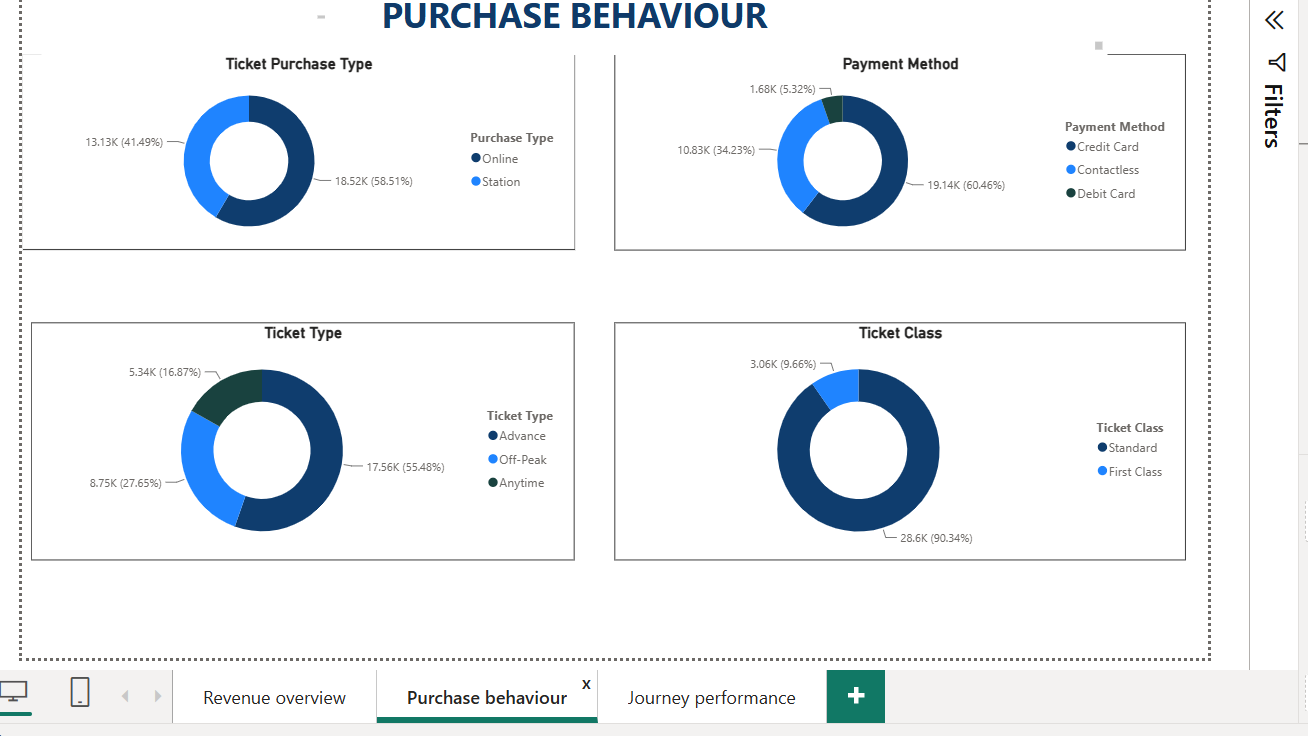

What the dashboard file says about the page in this screenshot:
{"tool":"powerbi","page":{"name":"Purchase  behaviour","canvas":[1280,720],"ordinal":1},"visuals":[{"type":"donutChart","title":"Ticket Type","fields":{"Category":["Total revenue.Ticket Type"],"Y":["CountNonNull(Total revenue.Transaction ID)"]},"box":[10,358.3,586.7,256.7],"z":1},{"type":"donutChart","title":" Payment Method","fields":{"Category":["Total revenue.Payment Method"],"Y":["CountNonNull(Total revenue.Transaction ID)"]},"box":[640,68.3,616.7,211.7],"z":2},{"type":"donutChart","title":"Ticket Class","fields":{"Category":["Total revenue.Ticket Class"],"Y":["CountNonNull(Total revenue.Transaction ID)"]},"box":[640,358.3,616.7,256.7],"z":3},{"type":"donutChart","title":"Ticket Purchase Type","fields":{"Category":["Total revenue.Purchase Type"],"Y":["CountNonNull(Total revenue.Transaction ID)"]},"box":[0,68,597.2,211.7],"z":4},{"type":"textbox","title":"PURCHASE BEHAVIOUR","box":[21.7,0,1150,68.3],"z":7},{"type":"textbox","box":[100,21.7,231.7,13.3],"z":8}]}

Visuals, with their boxes on the page's 1280x720 design canvas (x1, y1, x2, y2). These are canvas units, not pixel positions in the 1308x736 screenshot, which may show the page scaled, cropped or inside an application window:
"Ticket Type" donutChart: (x1=10, y1=358, x2=597, y2=615)
" Payment Method" donutChart: (x1=640, y1=68, x2=1257, y2=280)
"Ticket Class" donutChart: (x1=640, y1=358, x2=1257, y2=615)
"Ticket Purchase Type" donutChart: (x1=0, y1=68, x2=597, y2=280)
"PURCHASE BEHAVIOUR" textbox: (x1=22, y1=0, x2=1172, y2=68)
textbox: (x1=100, y1=22, x2=332, y2=35)
